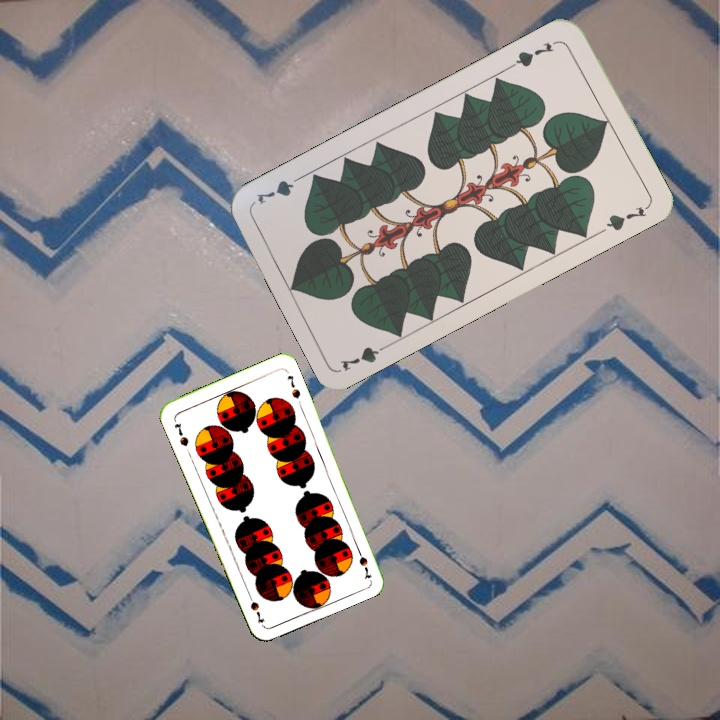G7: (336, 338, 394, 374), (507, 36, 562, 70)
S7: (352, 542, 374, 581), (170, 419, 191, 449)
